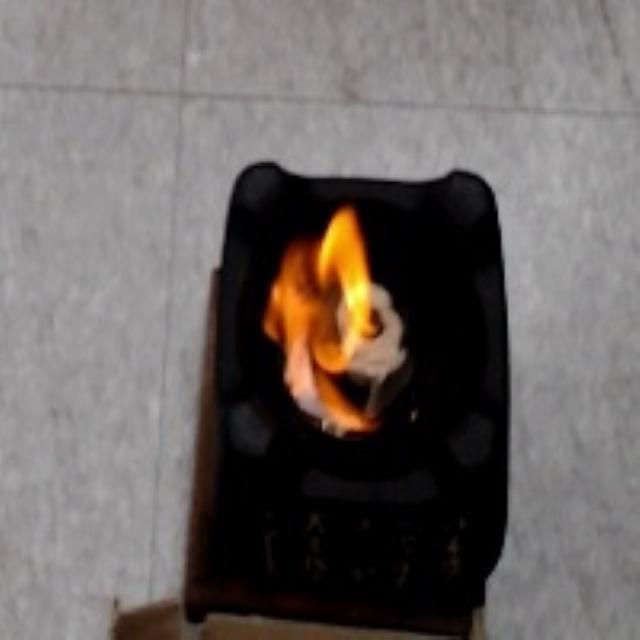Fire: (252, 198, 376, 438)
